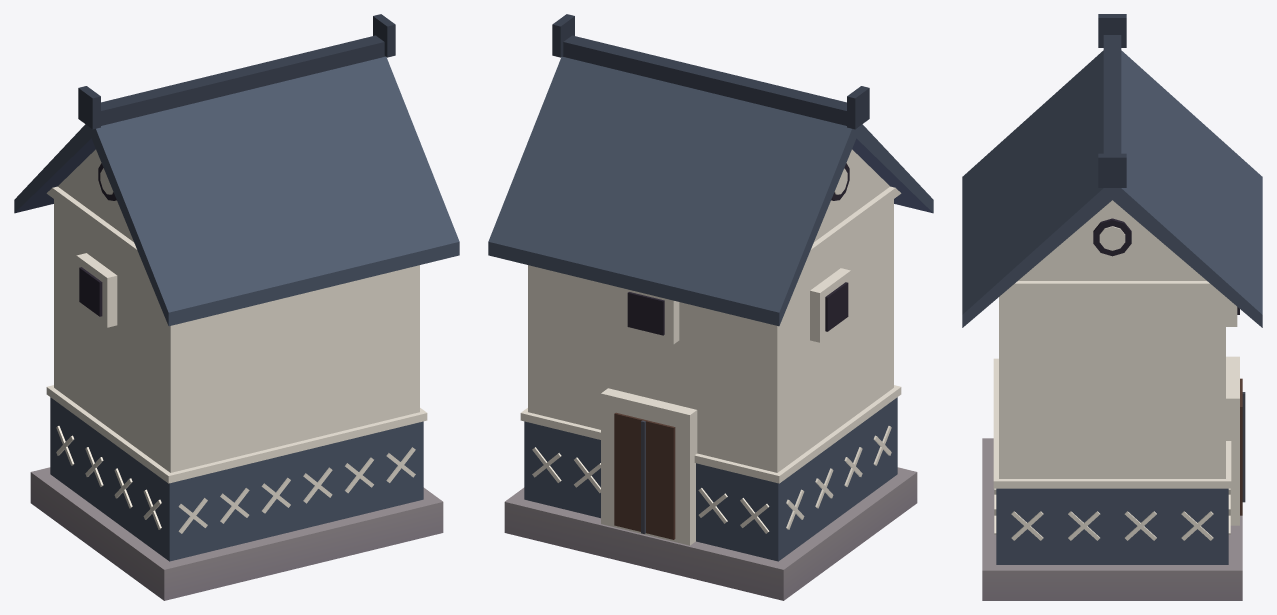
Rendered from kura.glb.
The picture shows the model from 3 angles, left to right: view 1: azimuth 30°, elevation 25°; view 2: azimuth 150°, elevation 25°; view 3: azimuth 270°, elevation 25°; orthographic projection. The views are drawn at different scales.
Parts seen in each view (by area): view 1: kura; view 2: kura; view 3: kura.
Boxes of the visible parts, x1,y1,x2,y2 form: kura: (14, 14, 459, 600); kura: (488, 14, 933, 600); kura: (962, 14, 1262, 600).
Bounding box in the file's own units: 5.1 × 7.43 × 4.5.
